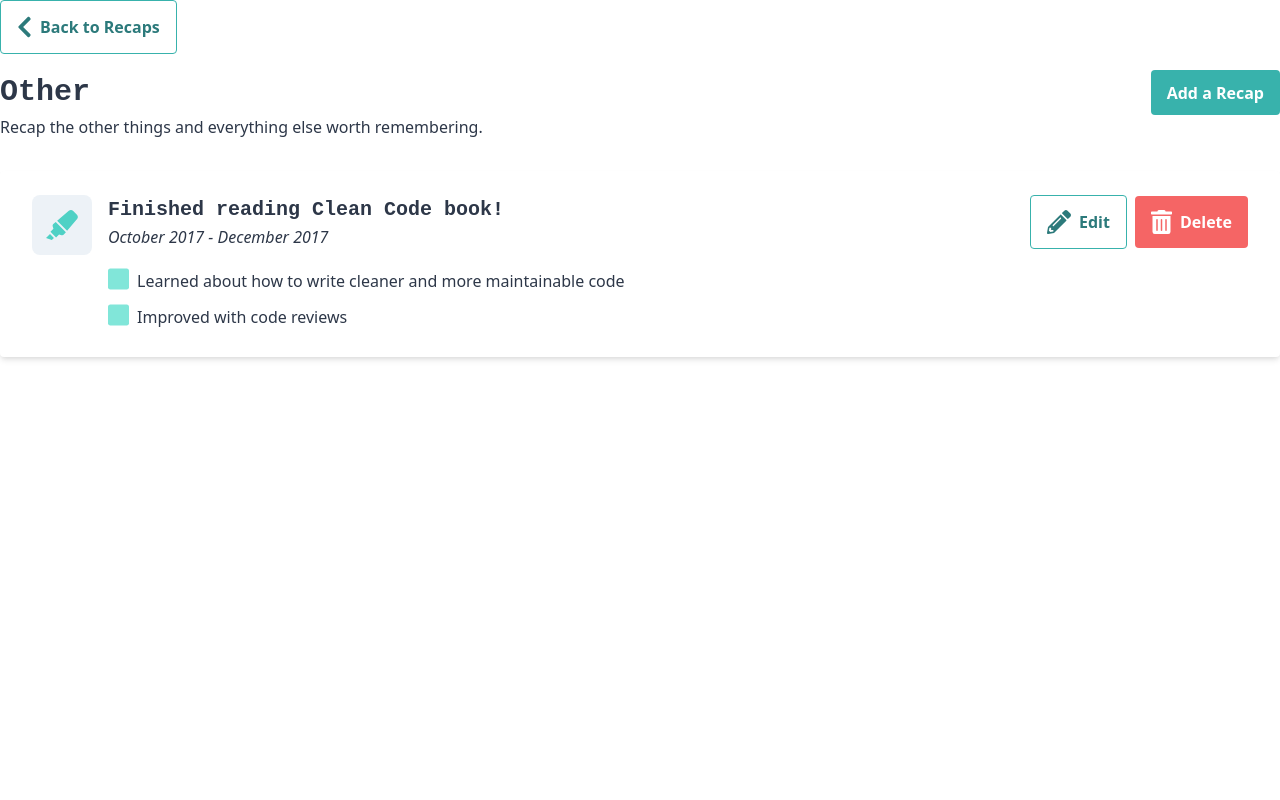
<OtherLayout /> › should show the success alert after deleting a recap successfully
The image size is (1280, 800).
Click the button "Delete" at (1192, 222), box [1135,196,1248,248]
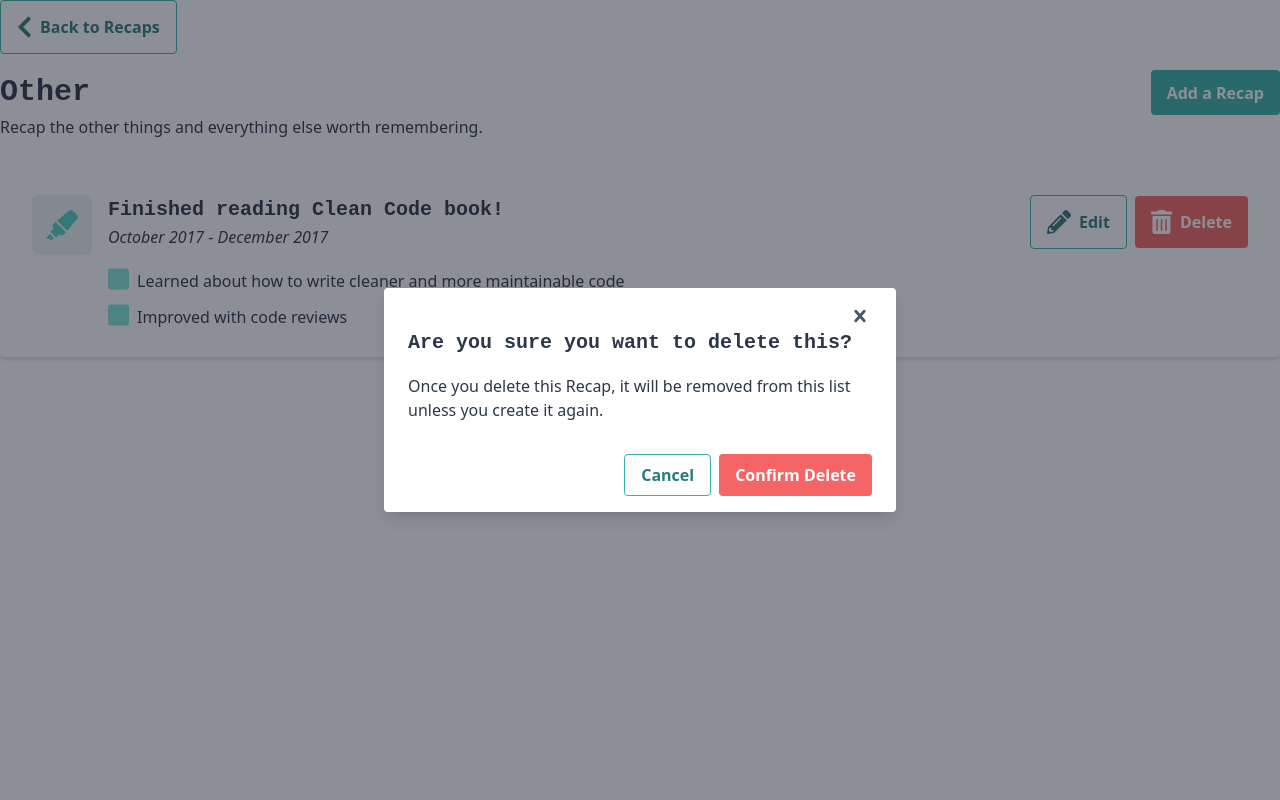
Expected: the heading "Are you sure you want to delete this?" is shown, [408,328,872,358]
Click the button "Confirm Delete" at (796, 475), box [719,454,872,496]
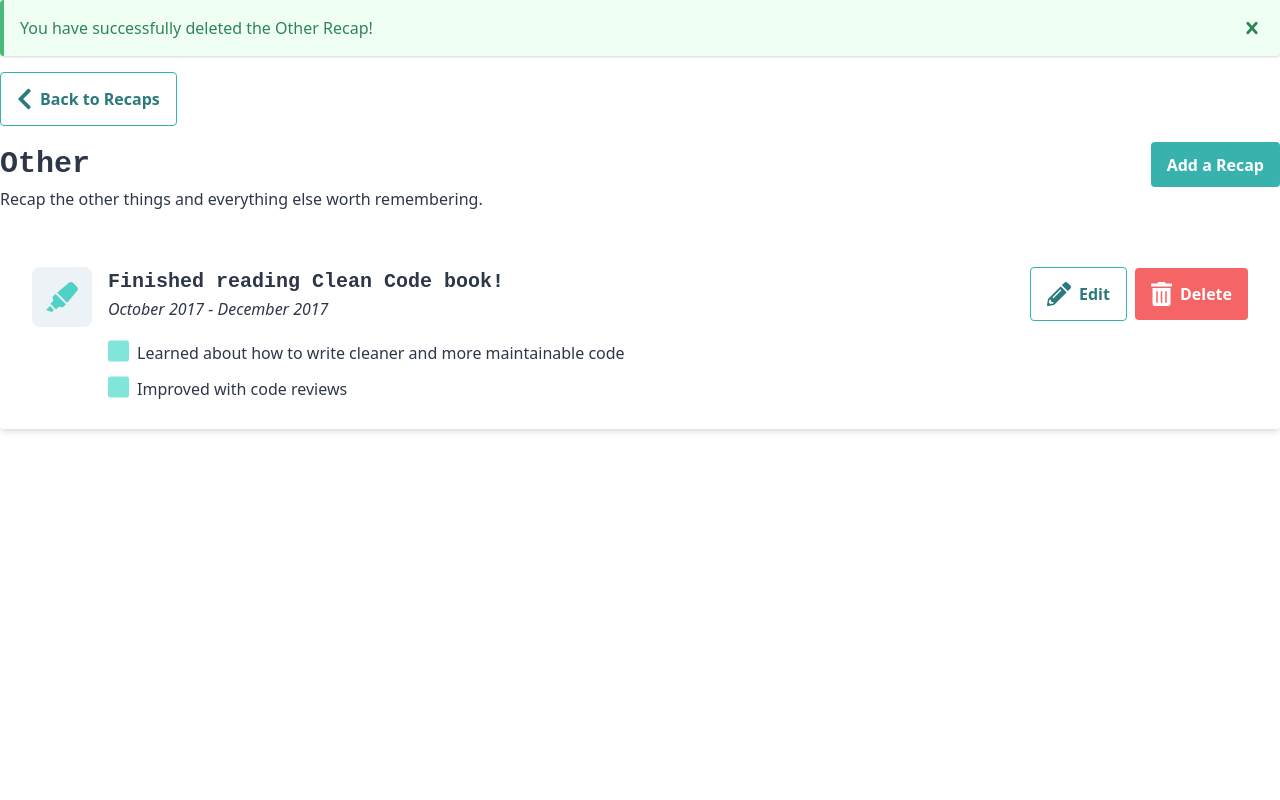
Expected: the heading "Are you sure you want to delete this?" is gone
Expected: the text "You have successfully deleted the Other Recap!" is shown, [20,17,373,39]
